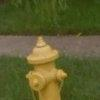Hydrant: (21, 34, 71, 100)
